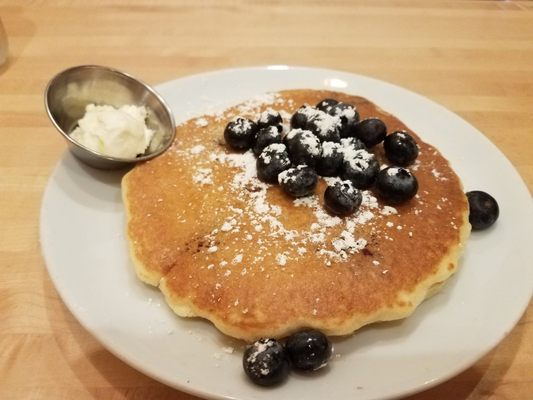sushi: (43, 64, 176, 171)
